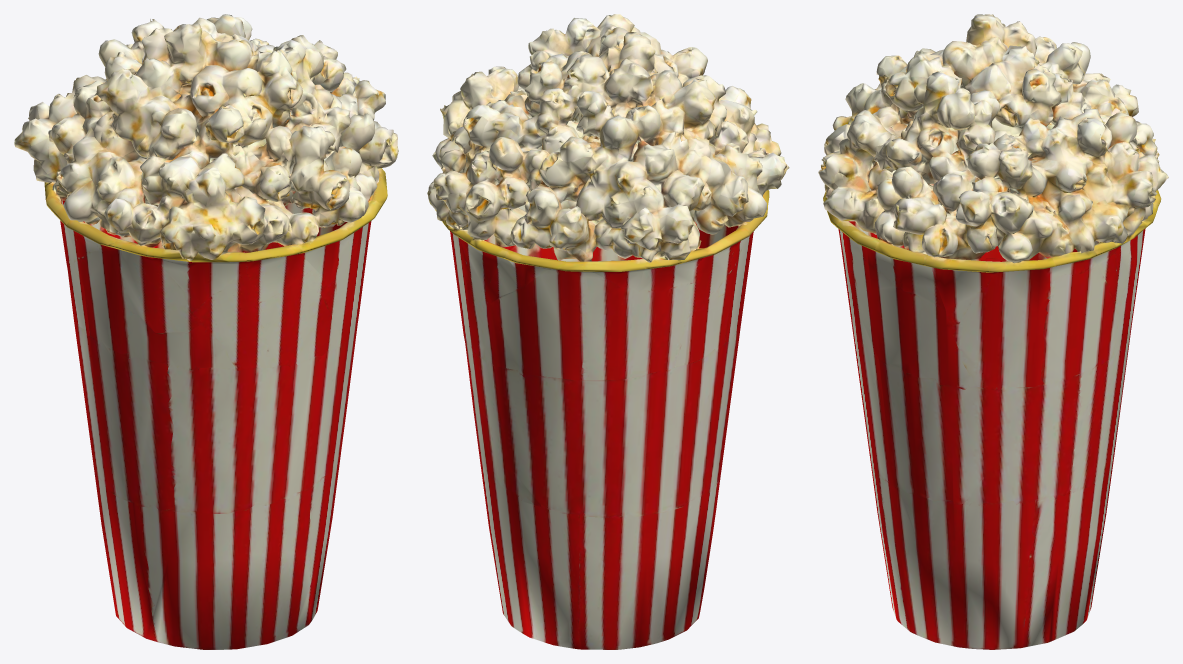
The picture shows the model from 3 angles, left to right: view 1: azimuth 30°, elevation 25°; view 2: azimuth 150°, elevation 25°; view 3: azimuth 270°, elevation 25°; orthographic projection. The views are drawn at different scales.
Size of the model in its own units: 1.07 by 1.9 by 1.04.
1 material, 1 textured.
